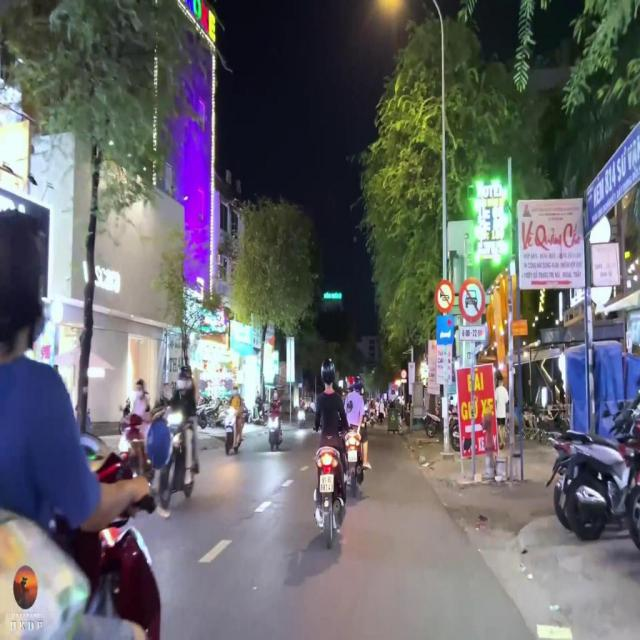cam_o_to: (459, 278, 485, 323), (401, 369, 406, 379)
cam_su_dung_coi: (434, 279, 455, 314)
khac: (436, 315, 454, 345), (460, 326, 486, 341), (401, 380, 407, 382)
